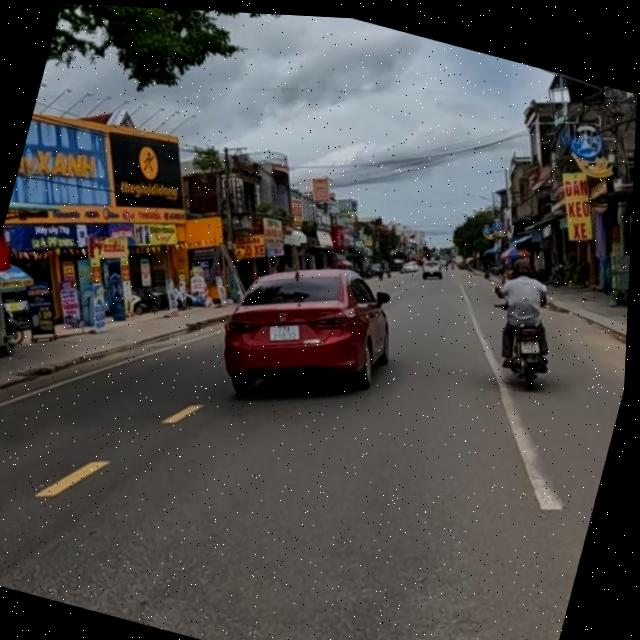car: (205, 244, 413, 436)
motorcycle: (490, 317, 561, 399)
plate: (259, 311, 307, 351), (512, 336, 547, 362)
